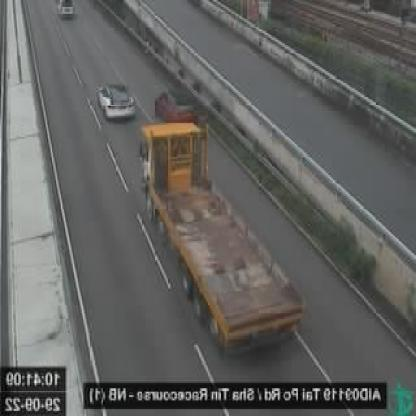Car: (151, 88, 204, 130), (94, 83, 138, 120), (56, 0, 81, 24)
Truck: (134, 120, 307, 355)
